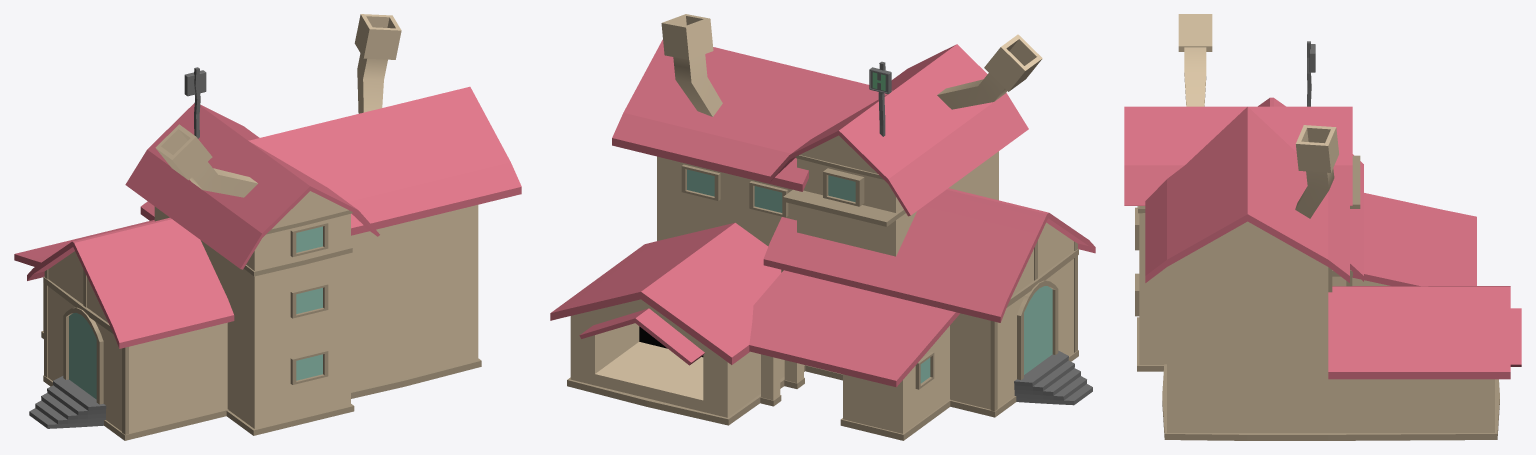
File: Settlement_1_2.fbx
3 views of the same model, side by side, from view 1: azimuth 30°, elevation 25°; view 2: azimuth 150°, elevation 25°; view 3: azimuth 270°, elevation 25° (orthographic). The views are drawn at different scales.
Visible parts, largest first — view 1: Settlement_Level_1, Settlement_Level_2; view 2: Settlement_Level_1, Settlement_Level_2; view 3: Settlement_Level_2, Settlement_Level_1.
Boxes of the visible parts, x1=… form: Settlement_Level_1: x1=14, y1=67, x2=379, y2=440; Settlement_Level_2: x1=140, y1=14, x2=521, y2=398; Settlement_Level_1: x1=749, y1=34, x2=1095, y2=440; Settlement_Level_2: x1=550, y1=14, x2=892, y2=425; Settlement_Level_2: x1=1145, y1=106, x2=1521, y2=440; Settlement_Level_1: x1=1124, y1=14, x2=1476, y2=371.
Bounding box in the file's own units: 89.21 × 60.55 × 73.66.
